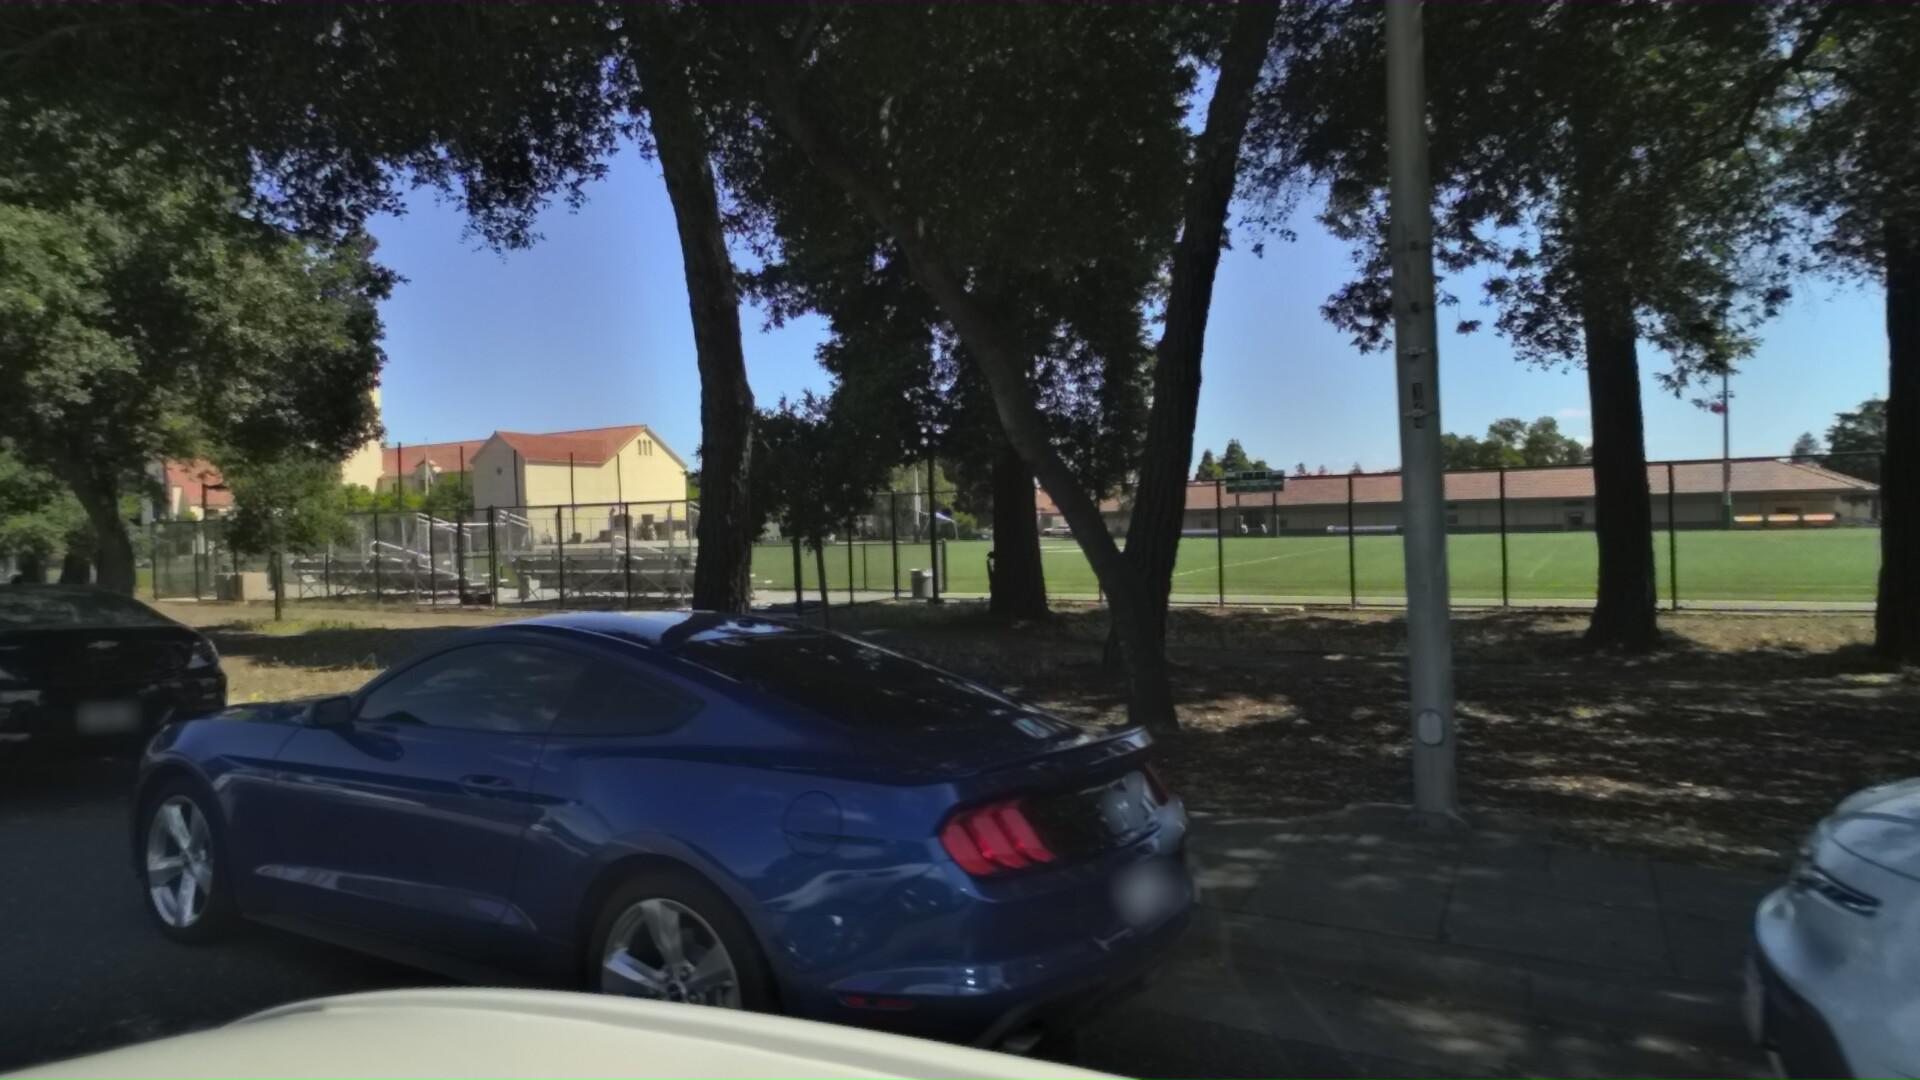car: (87, 578, 1396, 1080), (0, 567, 309, 884)
